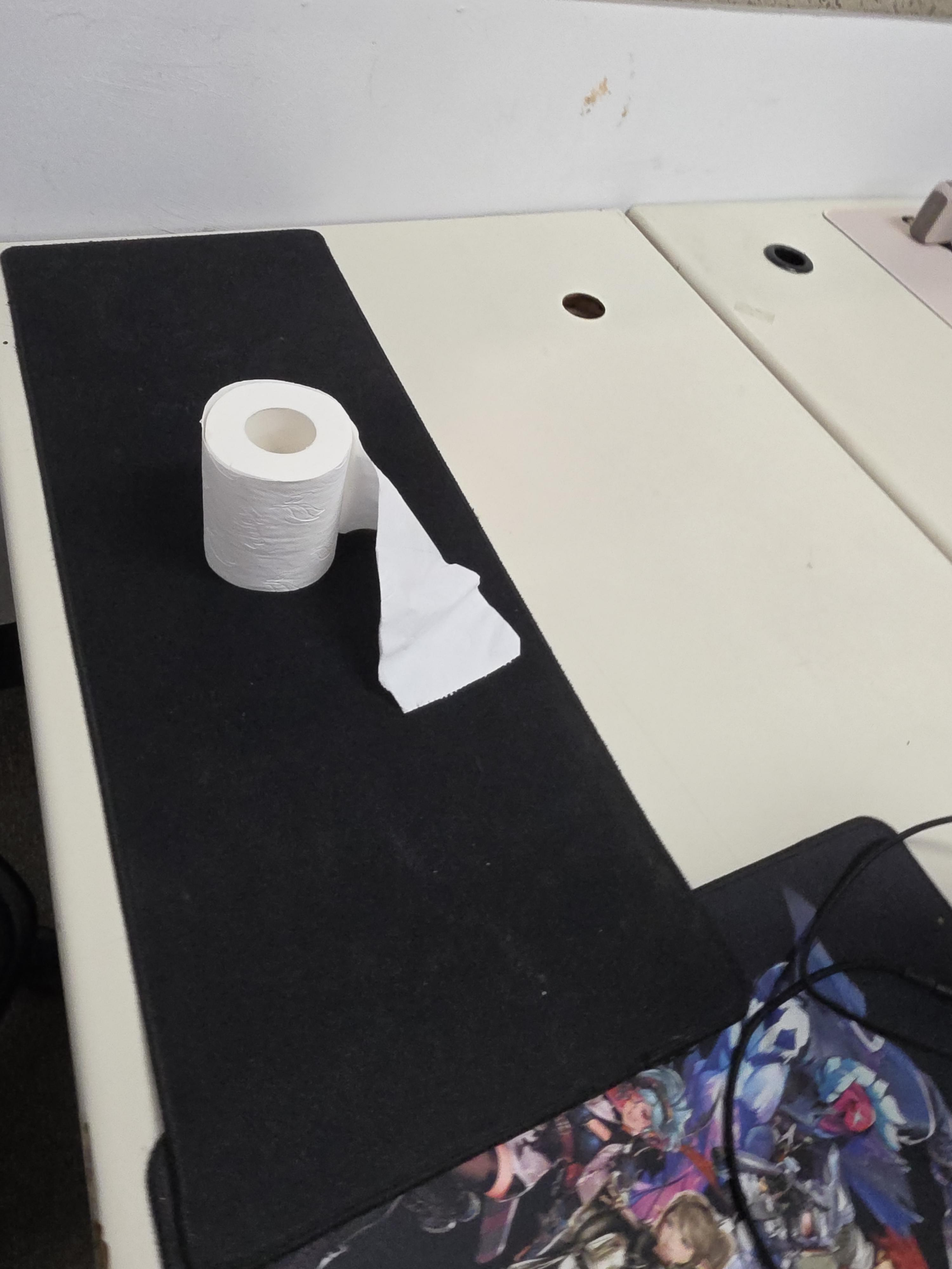tissue: (200, 379, 521, 714)
